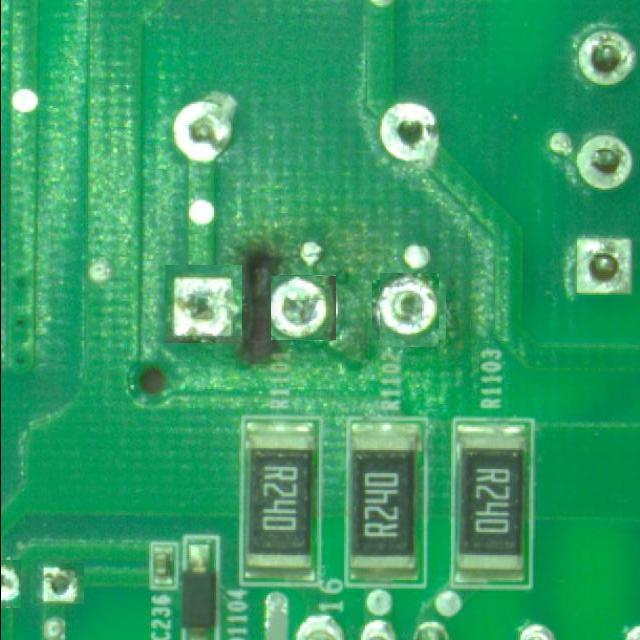lack_of_part: (164, 266, 242, 344), (366, 100, 451, 170), (375, 276, 443, 344), (270, 275, 336, 340), (33, 559, 81, 607), (0, 560, 21, 608)
